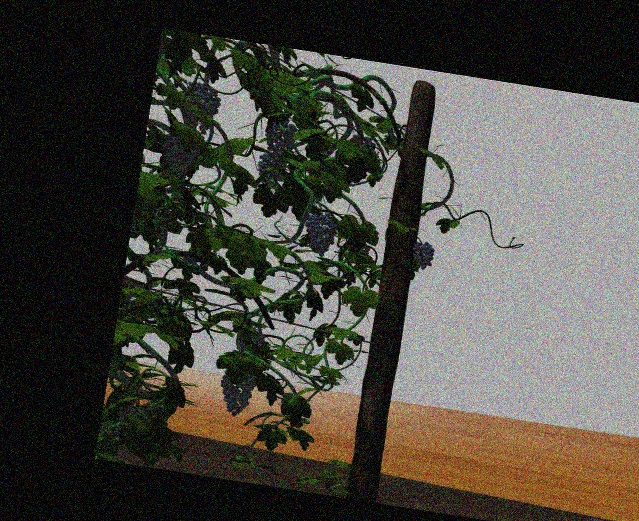grape: (160, 128, 200, 181), (217, 364, 254, 416), (178, 84, 219, 130), (302, 207, 336, 256), (263, 121, 295, 154), (255, 152, 287, 185), (410, 239, 435, 266)
